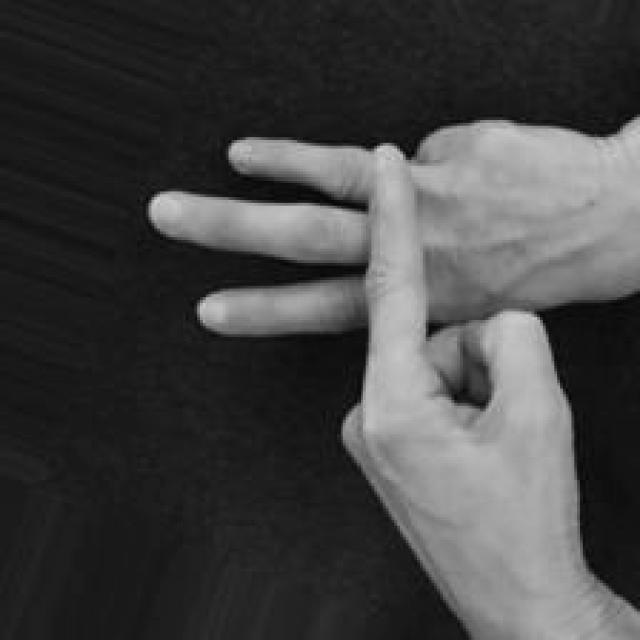E: (140, 100, 640, 640)
